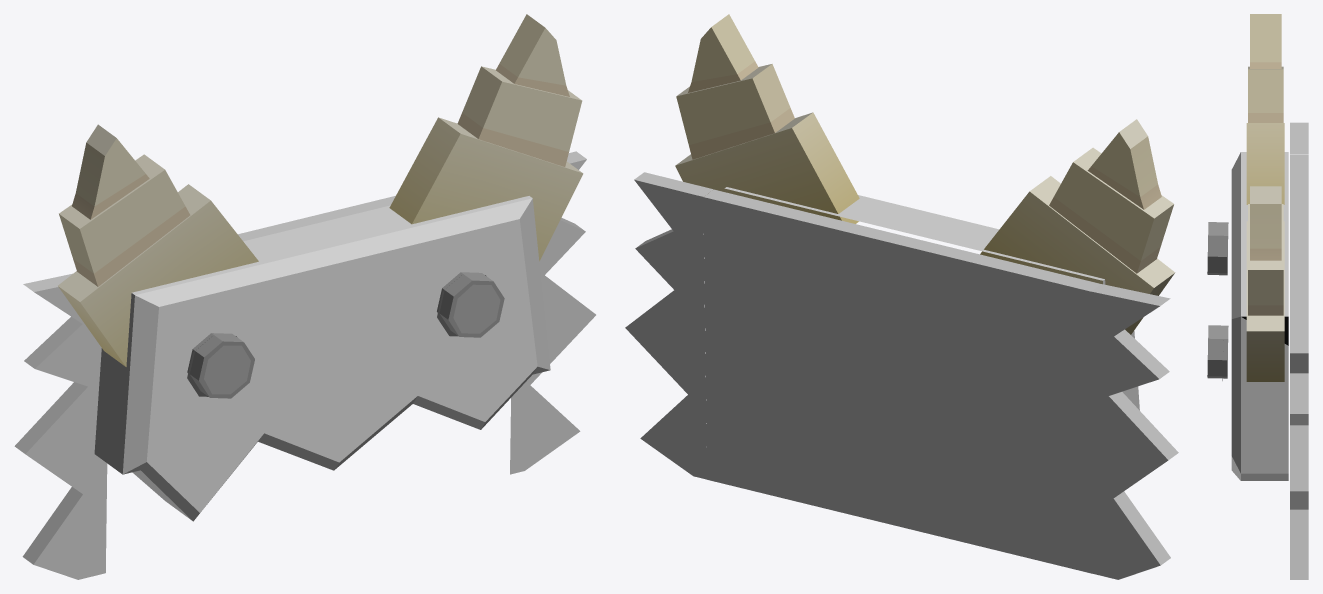
Rendered from yetiSignTop_1.glb.
3 renders of one model, left to right at view 1: azimuth 30°, elevation 25°; view 2: azimuth 150°, elevation 25°; view 3: azimuth 270°, elevation 25°, orthographic. The views are drawn at different scales.
Parts seen in each view (by area): view 1: yetiSignTop; view 2: yetiSignTop; view 3: yetiSignTop.
Boxes of the visible parts, x1,y1,x2,y2 form: yetiSignTop: [14, 14, 595, 579]; yetiSignTop: [625, 14, 1178, 579]; yetiSignTop: [1207, 14, 1308, 579].
Size of the model in its own units: 1.37 by 1.06 by 0.2483.
